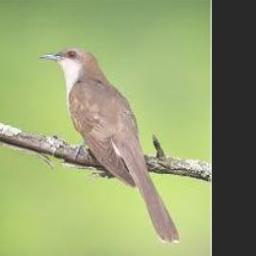Cuckoo: (39, 48, 179, 242)
